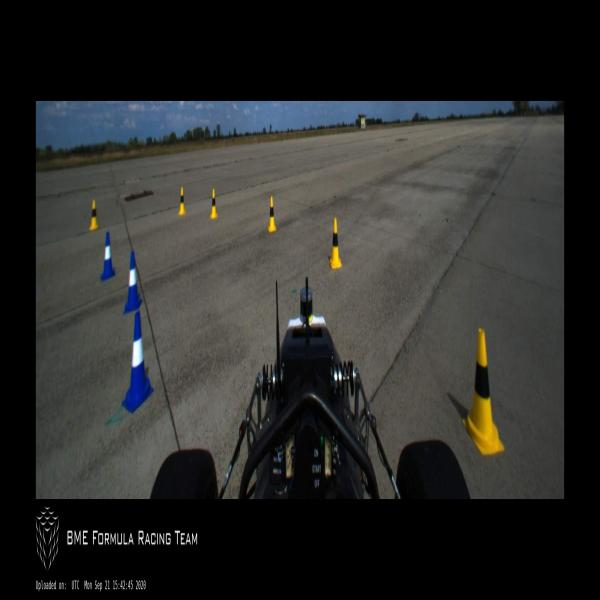blue_cone: (121, 312, 154, 413), (123, 250, 142, 314), (100, 231, 116, 282)
yellow_cone: (462, 328, 504, 457), (329, 216, 342, 270), (268, 196, 276, 234), (89, 200, 98, 231), (178, 186, 186, 216), (210, 188, 217, 220)
